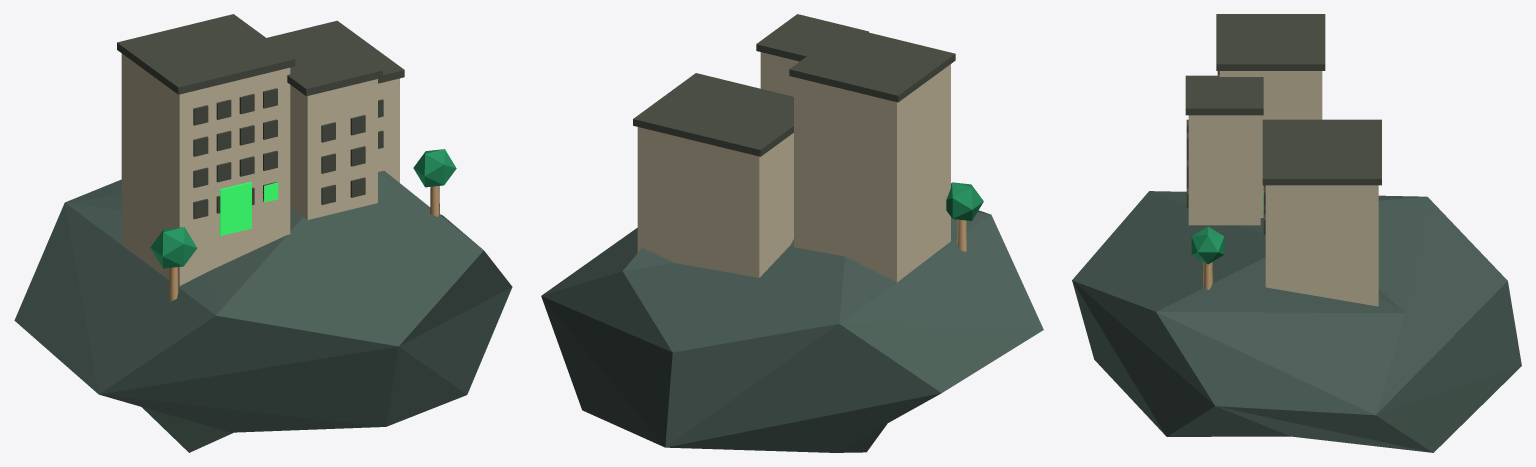
The model's file is campus-rock.glb.
3 views of the same model, side by side, from view 1: azimuth 30°, elevation 25°; view 2: azimuth 150°, elevation 25°; view 3: azimuth 270°, elevation 25° (orthographic). The views are drawn at different scales.
Visible parts, largest first — view 1: CampusRock, Tree (×2); view 2: CampusRock, Tree; view 3: CampusRock, Tree.
Boxes of the visible parts, x1,y1,x2,y2 form: CampusRock: [14, 14, 512, 452]; Tree (×2): [150, 149, 456, 301]; CampusRock: [541, 14, 1043, 452]; Tree: [946, 182, 983, 251]; CampusRock: [1072, 14, 1521, 452]; Tree: [1191, 226, 1224, 289].
Bounding box in the file's own units: 14.07 × 12.46 × 14.02.
